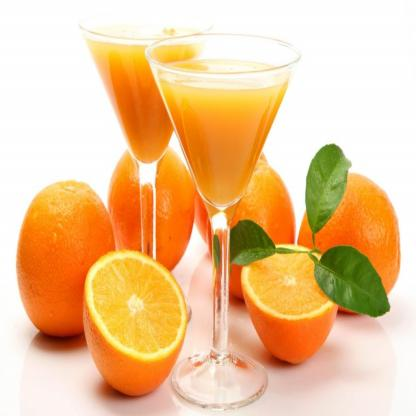orange: (9, 174, 119, 347), (298, 160, 406, 324), (93, 138, 196, 285), (207, 160, 302, 295)
